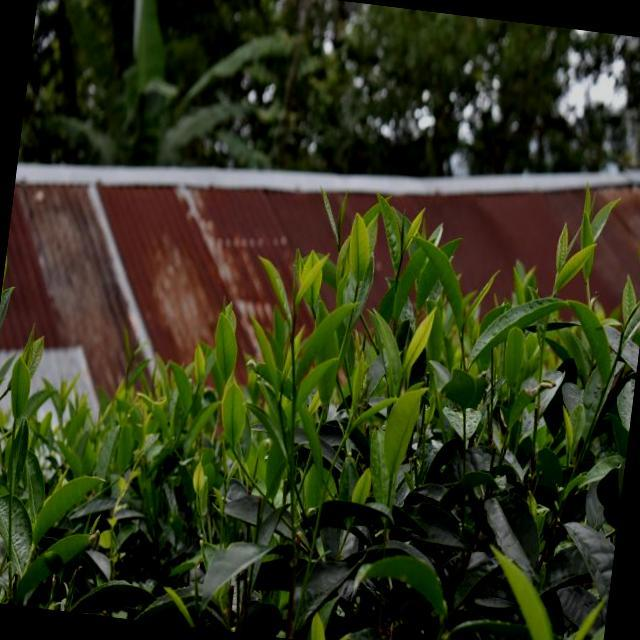Stem: (461, 334, 464, 343), (356, 286, 359, 293), (294, 307, 297, 313), (13, 421, 16, 427)
